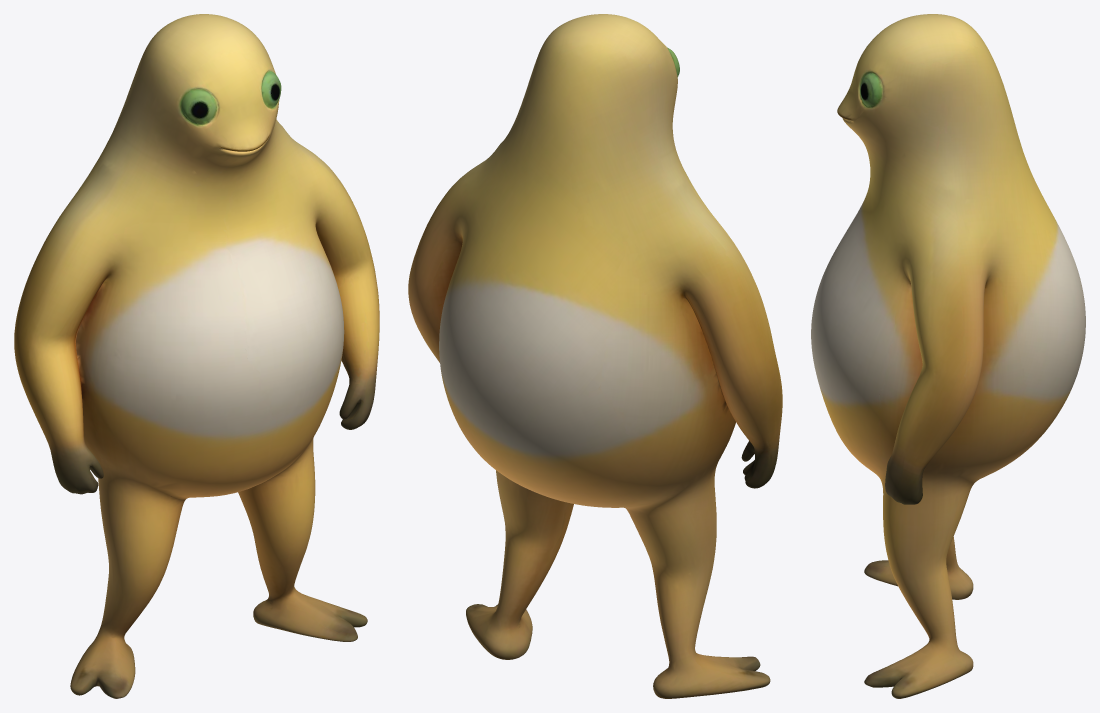
File: rigged.glb
The picture shows the model from 3 angles, left to right: view 1: azimuth 30°, elevation 25°; view 2: azimuth 150°, elevation 25°; view 3: azimuth 270°, elevation 25°; orthographic projection. The views are drawn at different scales.
Visible parts, largest first — view 1: node_0; view 2: node_0; view 3: node_0.
Part boxes in pixels (left/top/right/bottom): node_0: left=14, top=14, right=379, bottom=698; node_0: left=408, top=14, right=782, bottom=698; node_0: left=811, top=14, right=1085, bottom=698.
Size of the model in its own units: 0.6344 by 1.08 by 0.439.
1 material, 1 textured.
